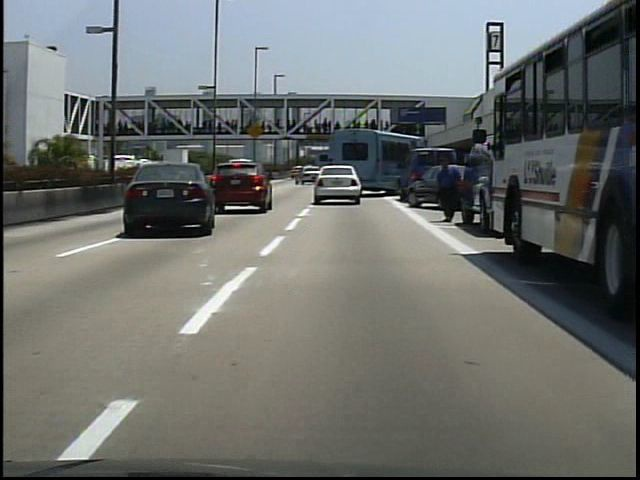person: (432, 159, 463, 227)
